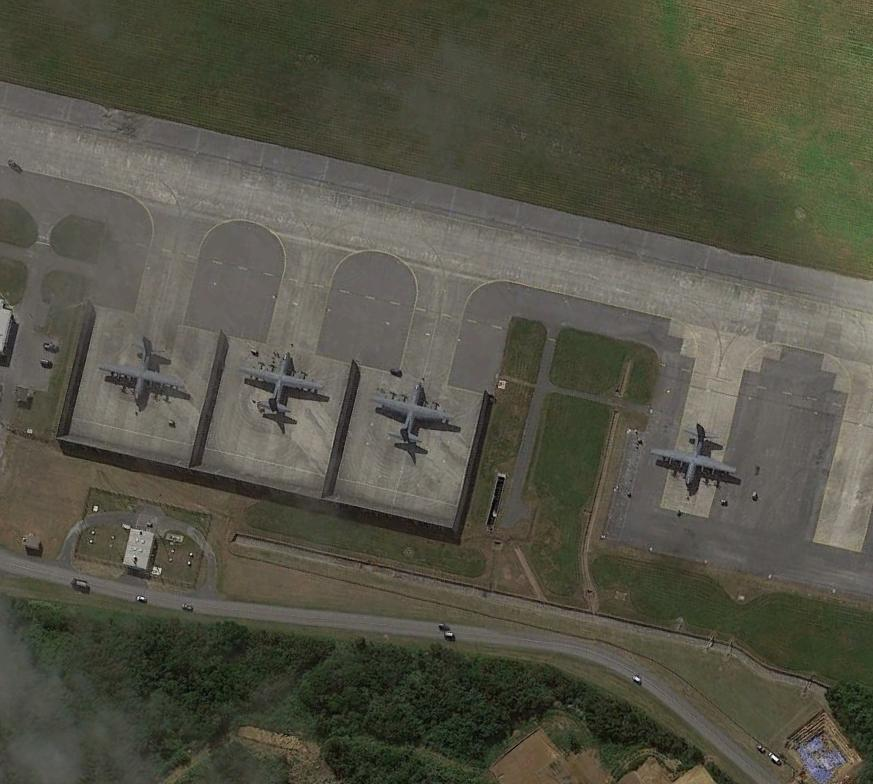A2: (97, 328, 188, 413), (234, 345, 323, 429), (367, 373, 456, 457), (648, 413, 737, 497)
